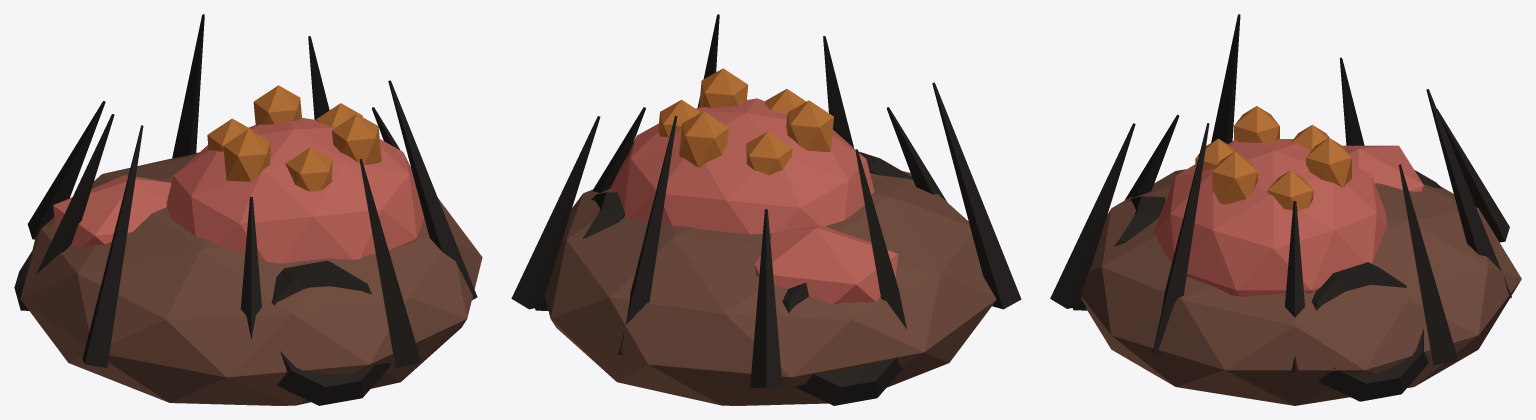
File: exo-nest.glb
The picture shows the model from 3 angles, left to right: view 1: azimuth 30°, elevation 25°; view 2: azimuth 150°, elevation 25°; view 3: azimuth 270°, elevation 25°; orthographic projection. The views are drawn at different scales.
Parts seen in each view (by area): view 1: body; view 2: body; view 3: body.
Part boxes in pixels (x1=…): body: x1=14, y1=14, x2=482, y2=405; body: x1=511, y1=14, x2=1021, y2=405; body: x1=1050, y1=14, x2=1521, y2=405.
Size of the model in its own units: 6.4 by 4.45 by 6.65.
